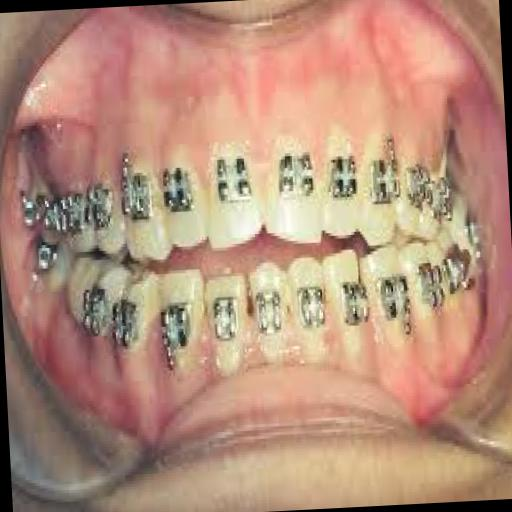correct_brace: (157, 296, 198, 374), (118, 154, 158, 232), (364, 133, 402, 211), (210, 150, 256, 212), (376, 273, 416, 341), (273, 148, 315, 208), (158, 160, 200, 220), (336, 274, 373, 336), (325, 151, 359, 208), (253, 284, 286, 340), (209, 292, 242, 346), (296, 280, 328, 334)
incorrect_brace: (157, 139, 211, 255), (317, 118, 366, 244), (322, 250, 372, 361), (203, 268, 253, 374)
